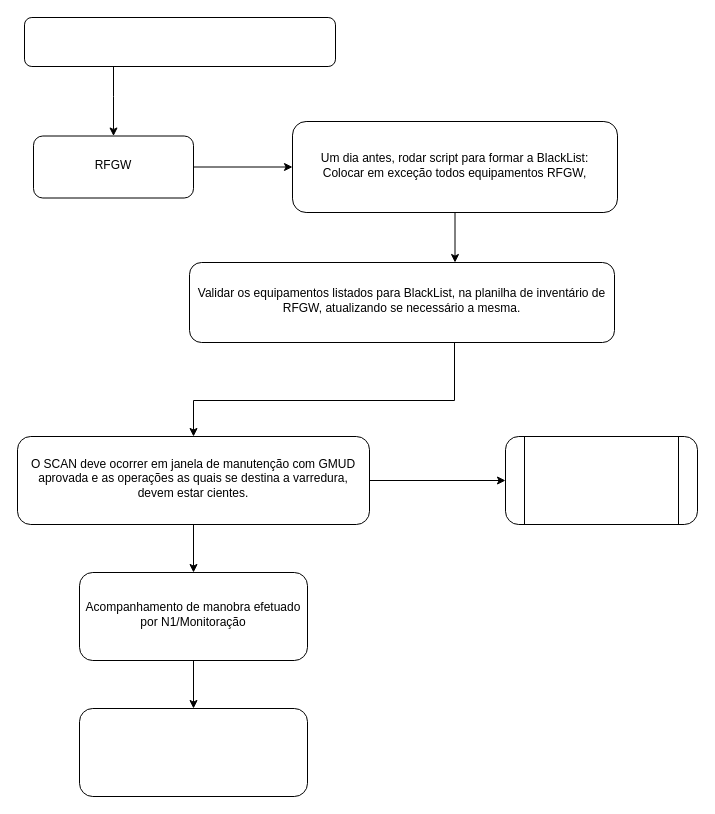
The diagram is 715 pixels wide and 814 high, and some of its shapes have lost their labels. The box of each missing label's shape, as (x1, y1, x2, y2) in pixels:
ABERTURA de GMUD: (504, 436, 698, 524)
Comunicação com o CLUSTER / Responsáveis: (24, 16, 336, 66)
Validação Pós Manobra com a operação a que se destina o SCAN.: (78, 708, 308, 796)
